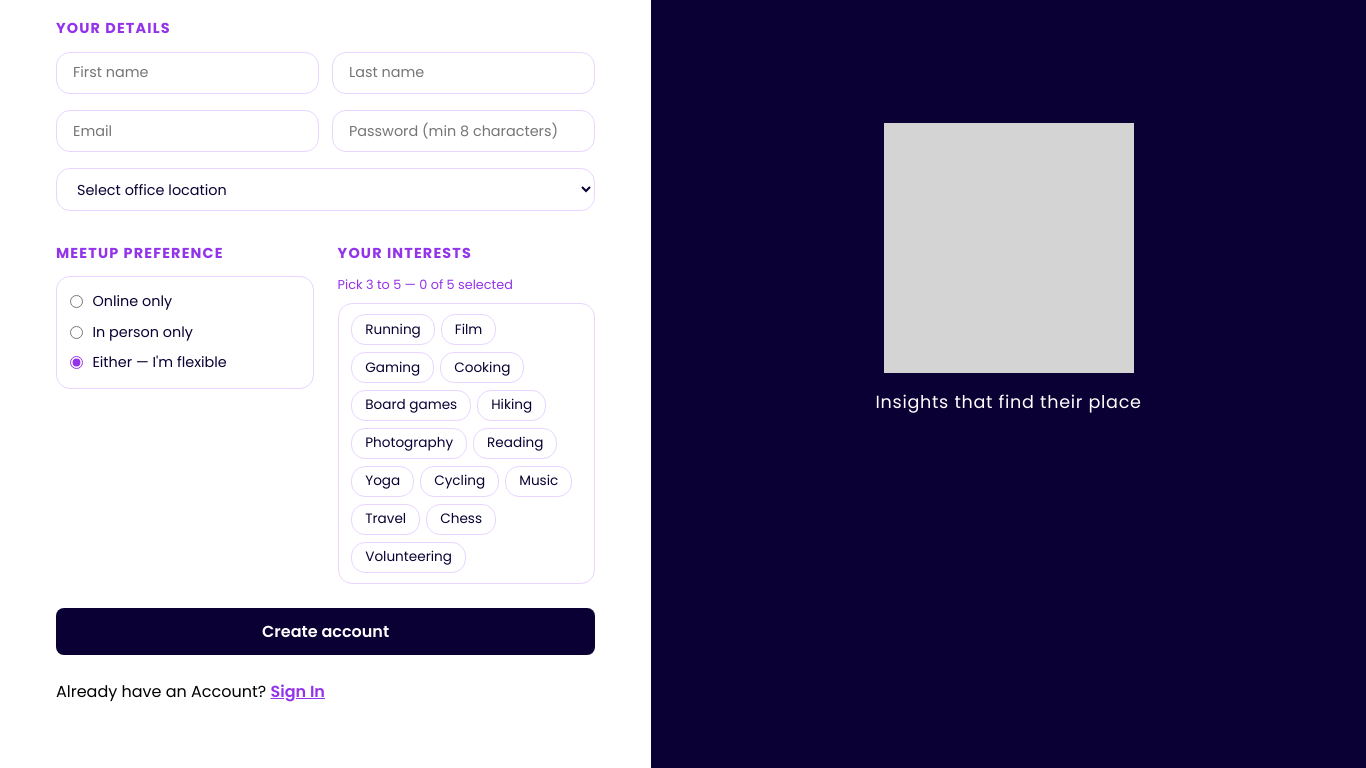
Test: SignUp component › shows error if first name is empty
The width and height of the screenshot is (1366, 768).
(page scrolled)
Click the button "Create account" at (326, 632), box left=56, top=608, right=595, bottom=655
(page scrolled)
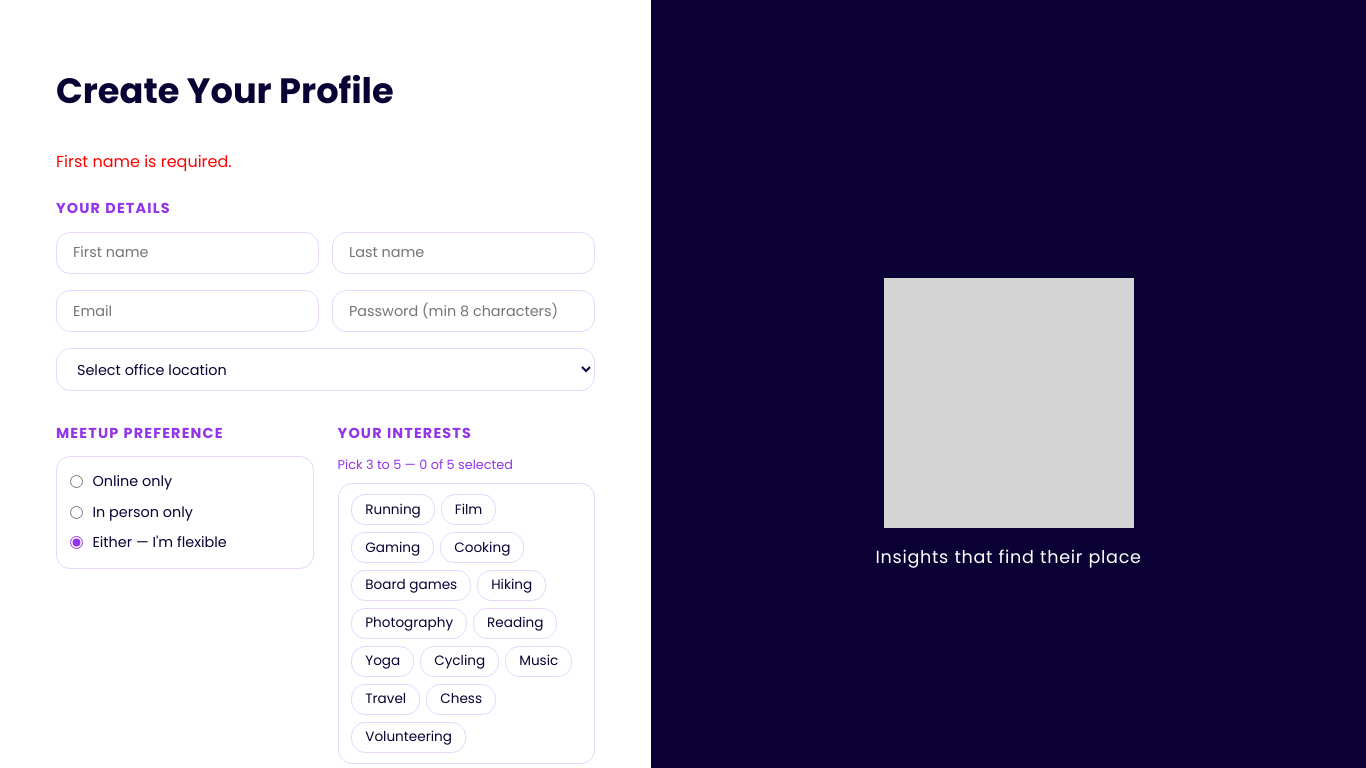
Check: the text "First name is required." is shown, box left=56, top=150, right=232, bottom=173
